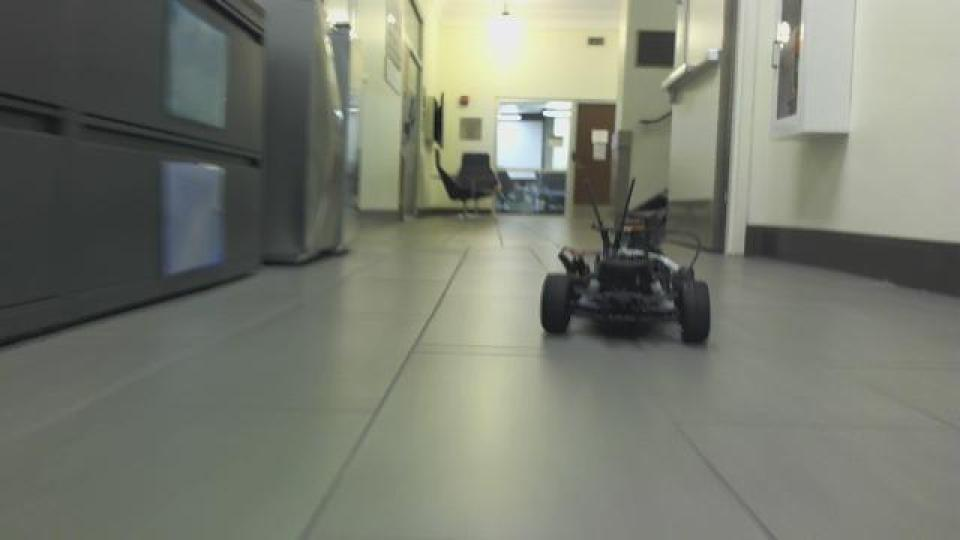car: (536, 176, 714, 346)
